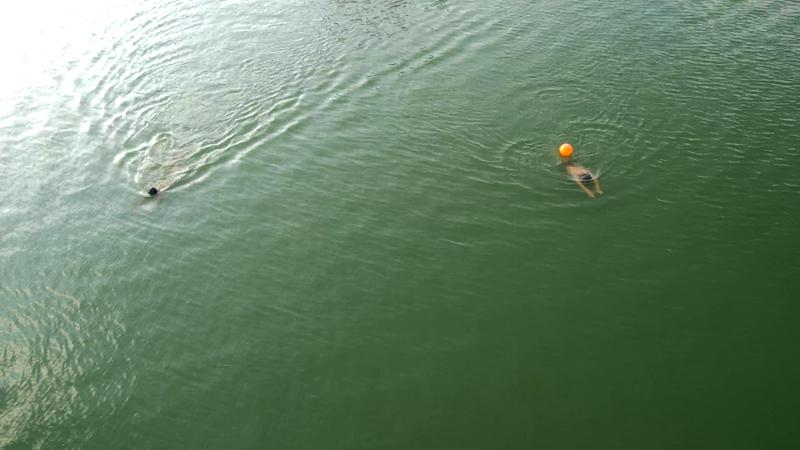swimmers: (550, 147, 604, 200)
